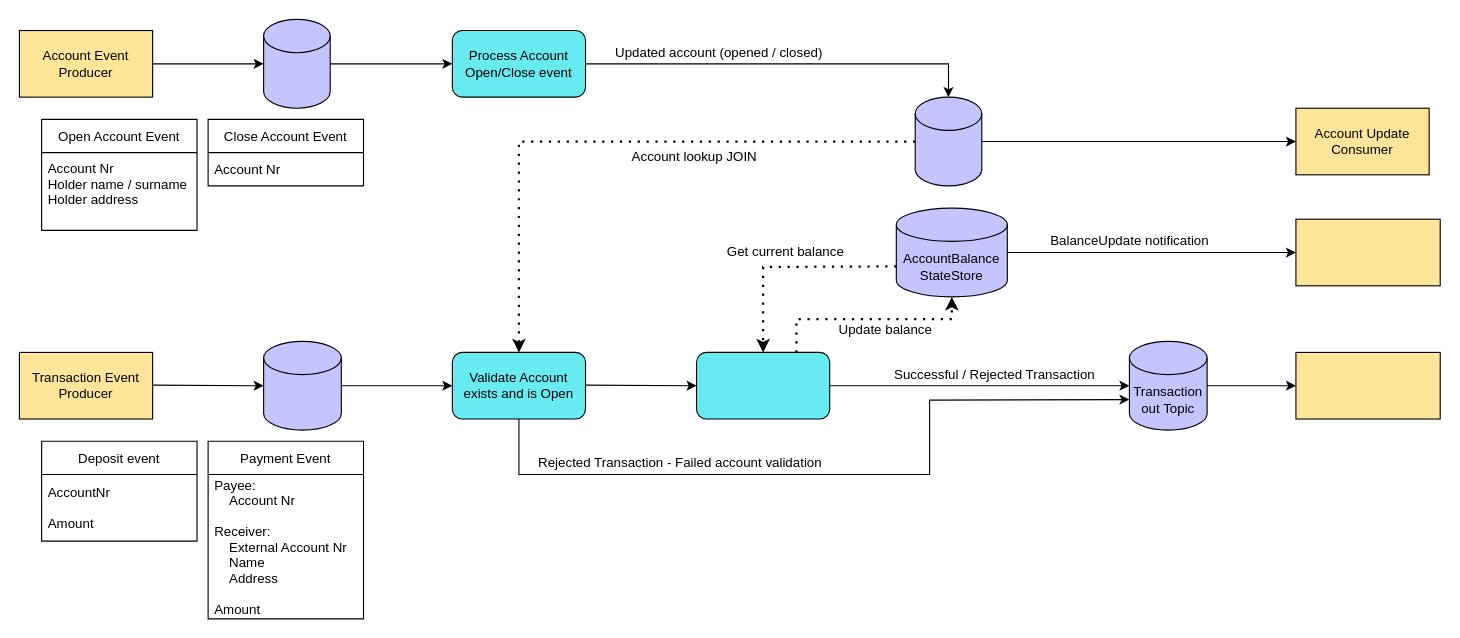
This 1460x638 diagram has some shape labels left out. The centre of each missing label's shape, as x and y in pixels:
Account IN Topic: (296,63)
Account KTable: (948,141)
Balance Update Consumer: (1367,252)
Process Transaction - AccountBalance update: (762,385)
Processed Transfer Consumer: (1367,385)
Transaction IN Topic: (302,385)
